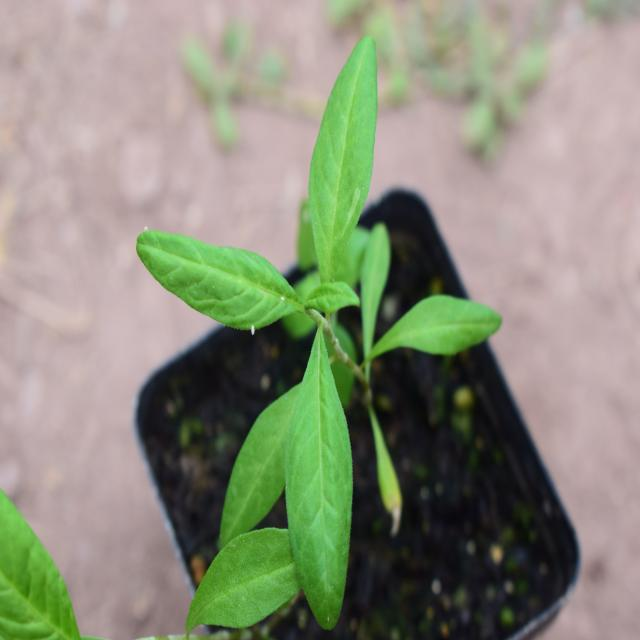white_smart_weed: (130, 44, 480, 613)
